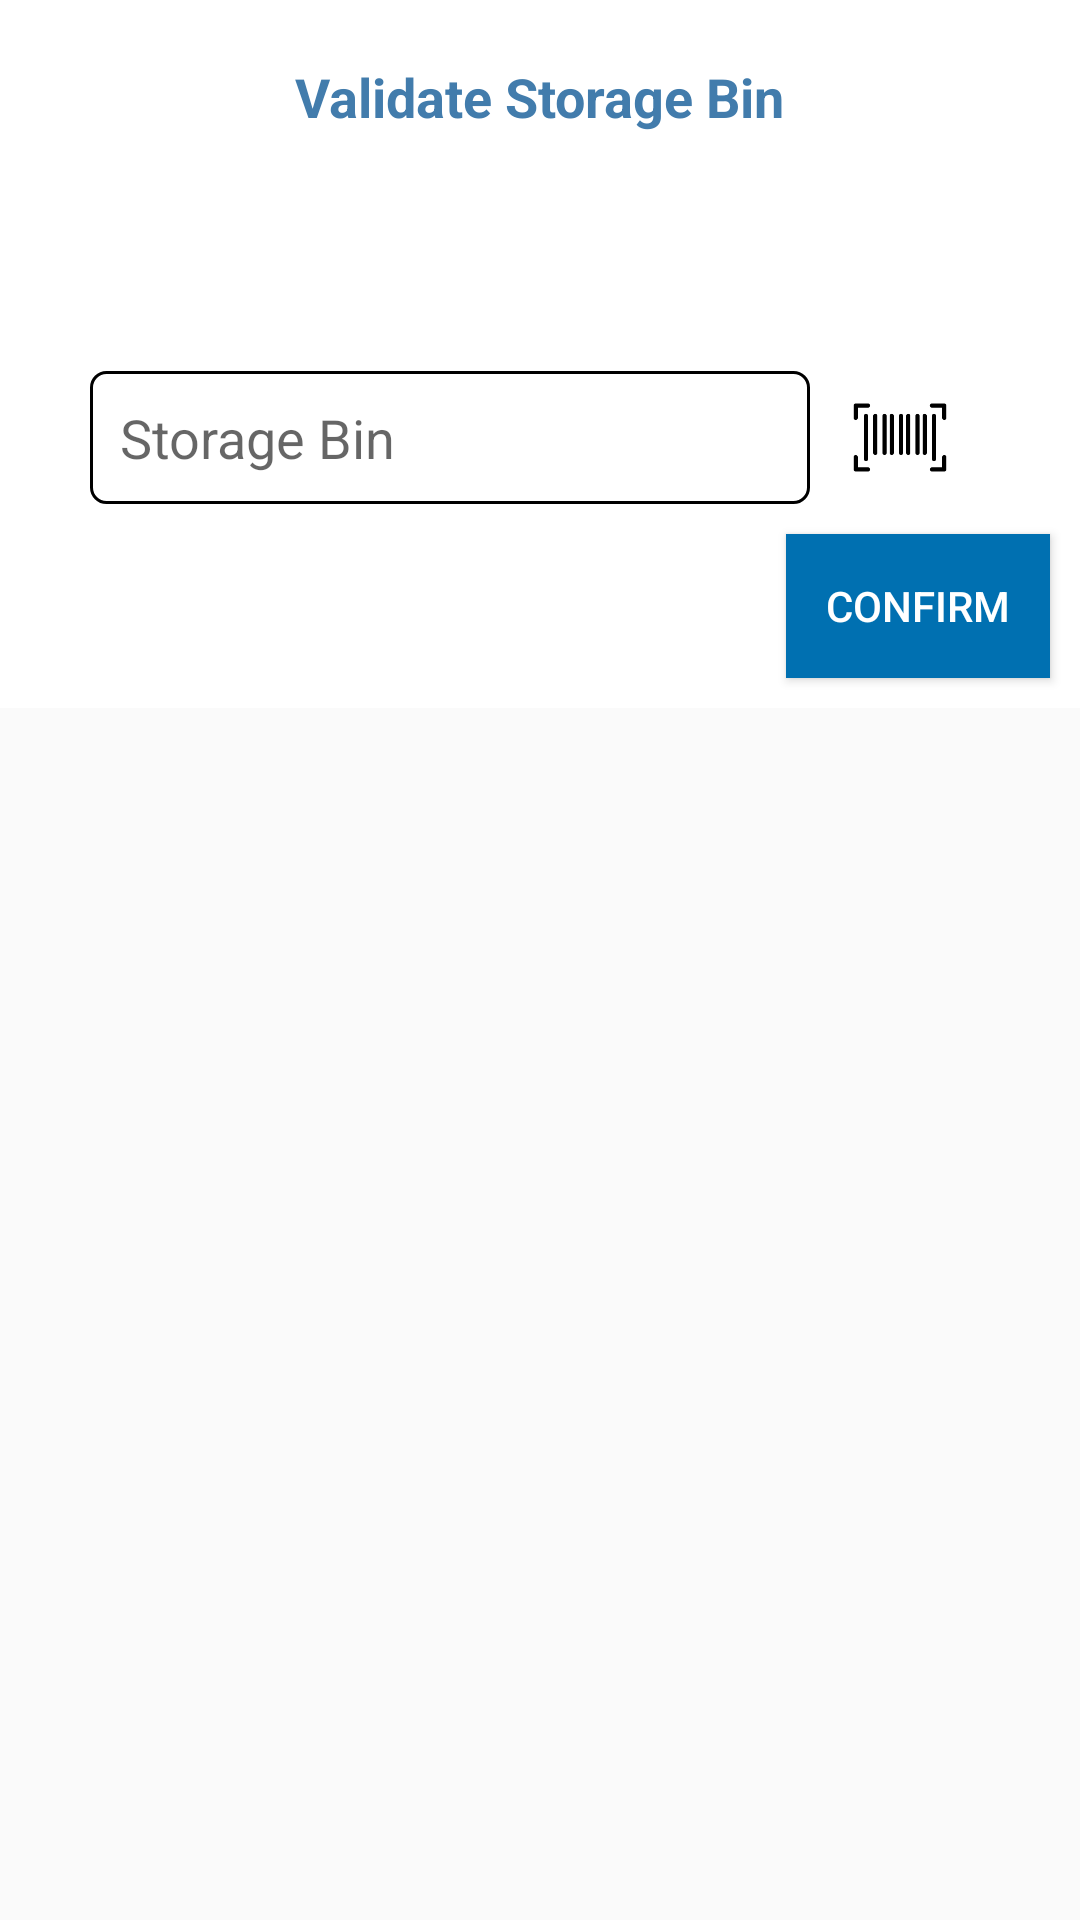

Named icons in this screenshot (1080w x 1920h) and their centers, (x=x, y=y):
barcode scanner: (x=900, y=437)
